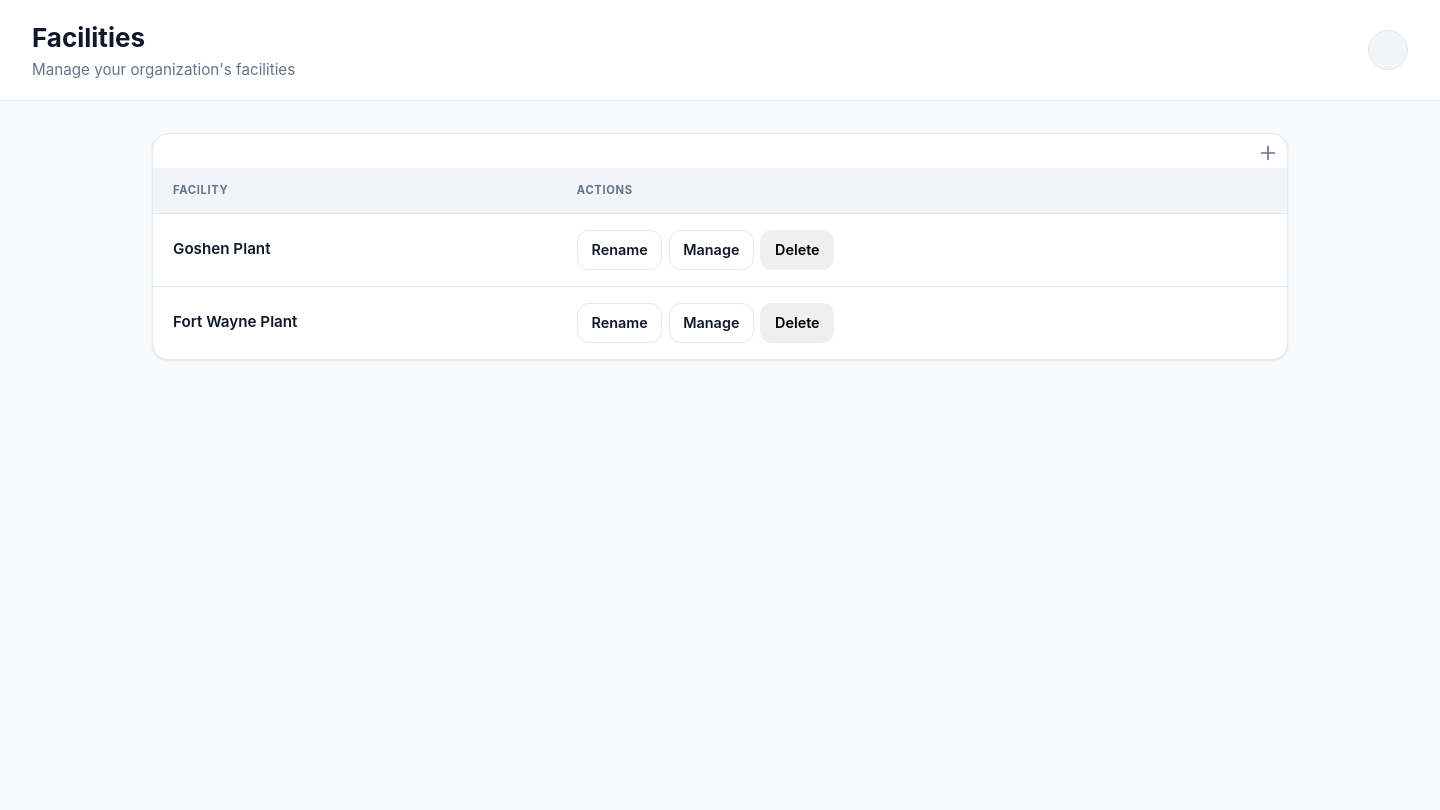
Test: FacilitiesScreen — delete › deletes the facility after the user confirms
expect the text "Goshen Plant" is shown: met, box [173,239,270,258]
Click the button "Delete" in the row of "Goshen Plant" at [797, 250], box [760,230,834,270]
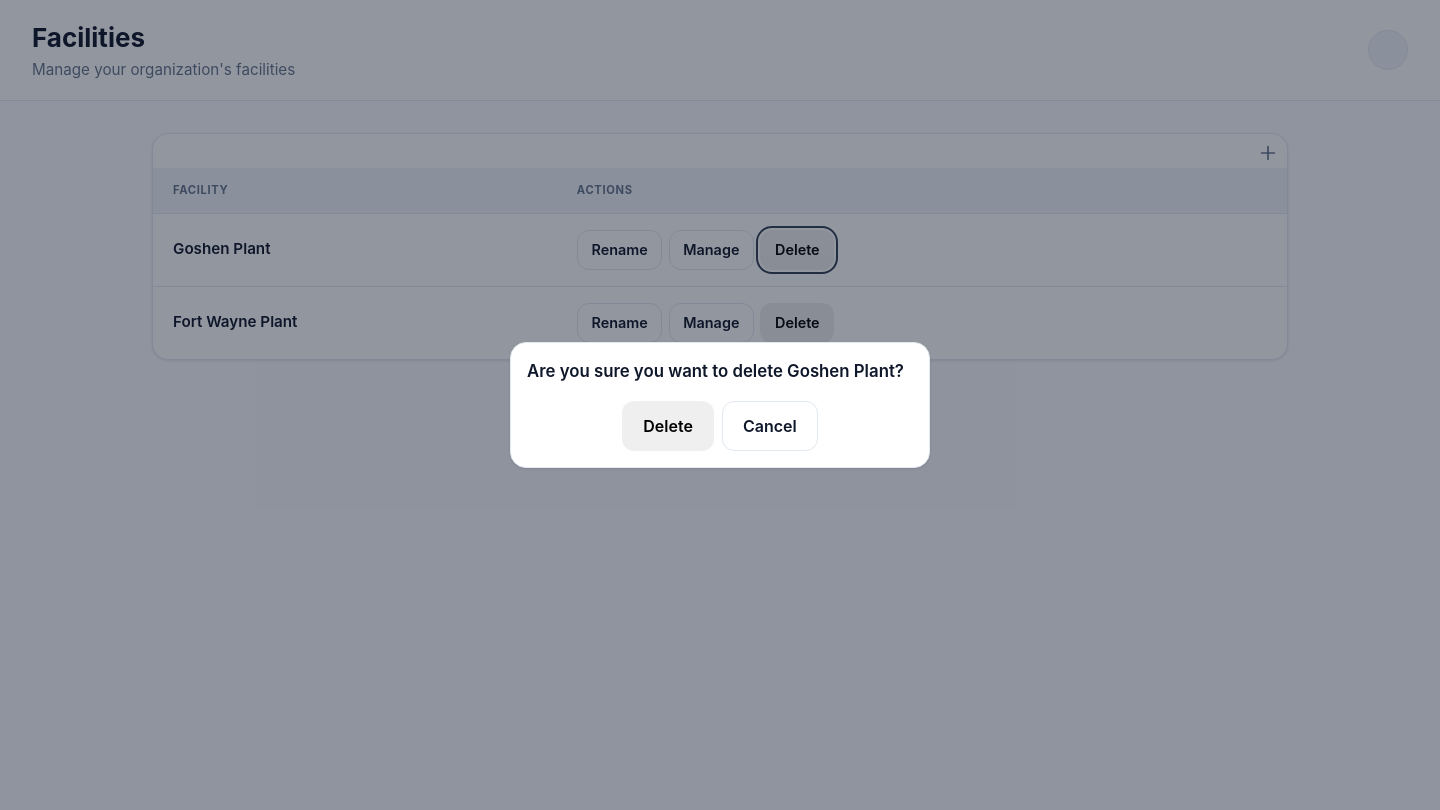
Click the button "Delete" at [668, 426], box [622,401,714,451]
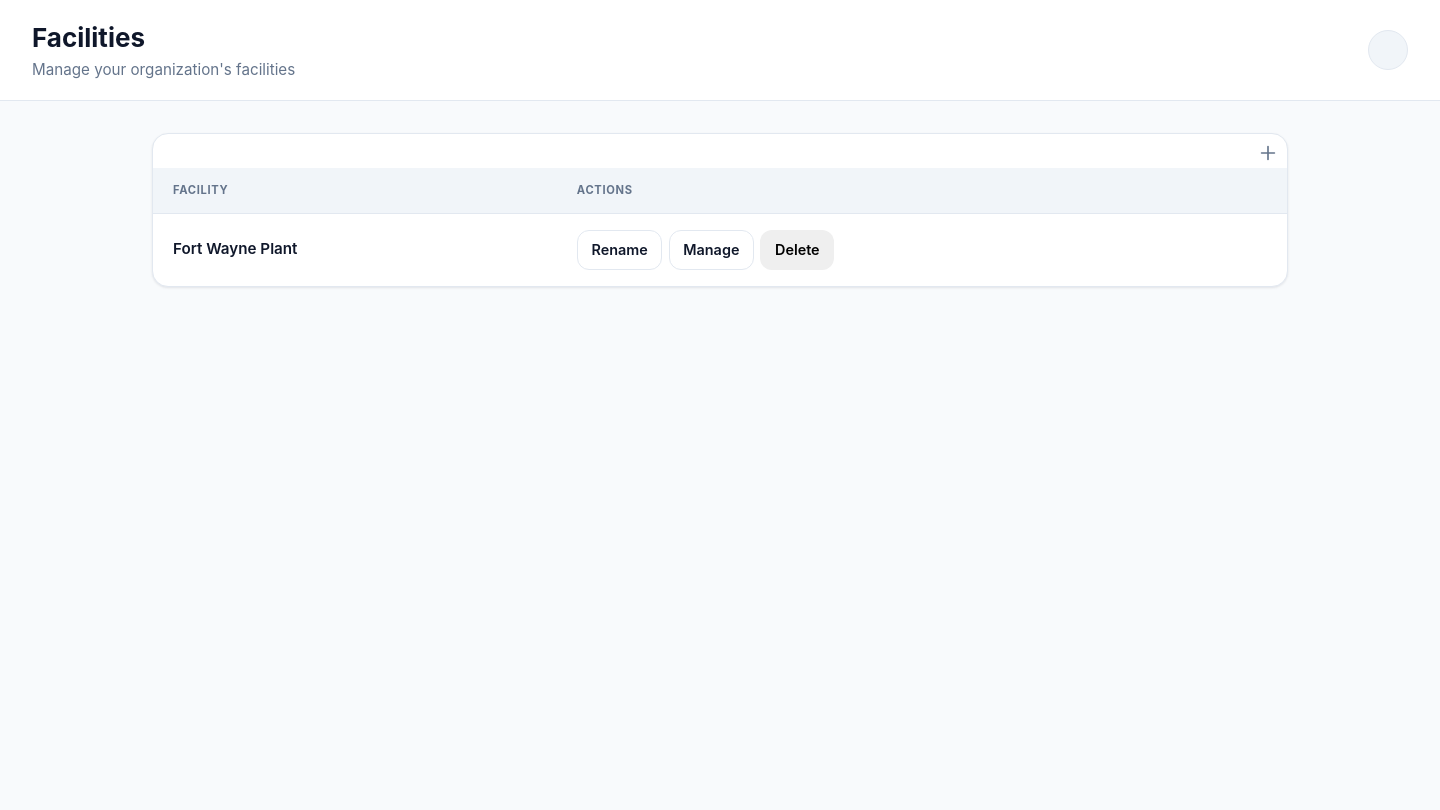
expect the text "Goshen Plant" is gone: met
